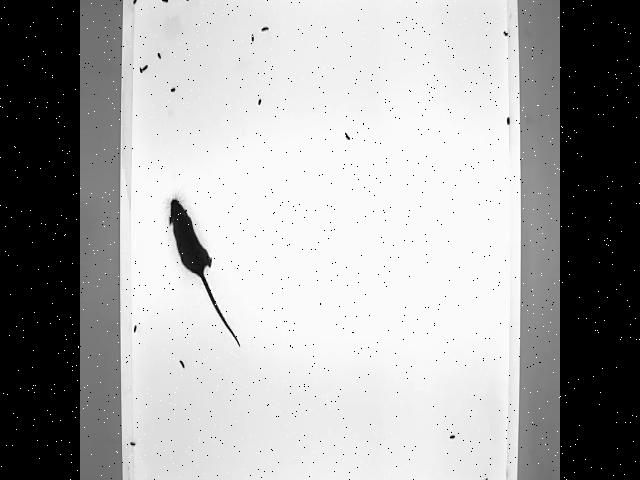Tikus: (168, 196, 240, 344)
